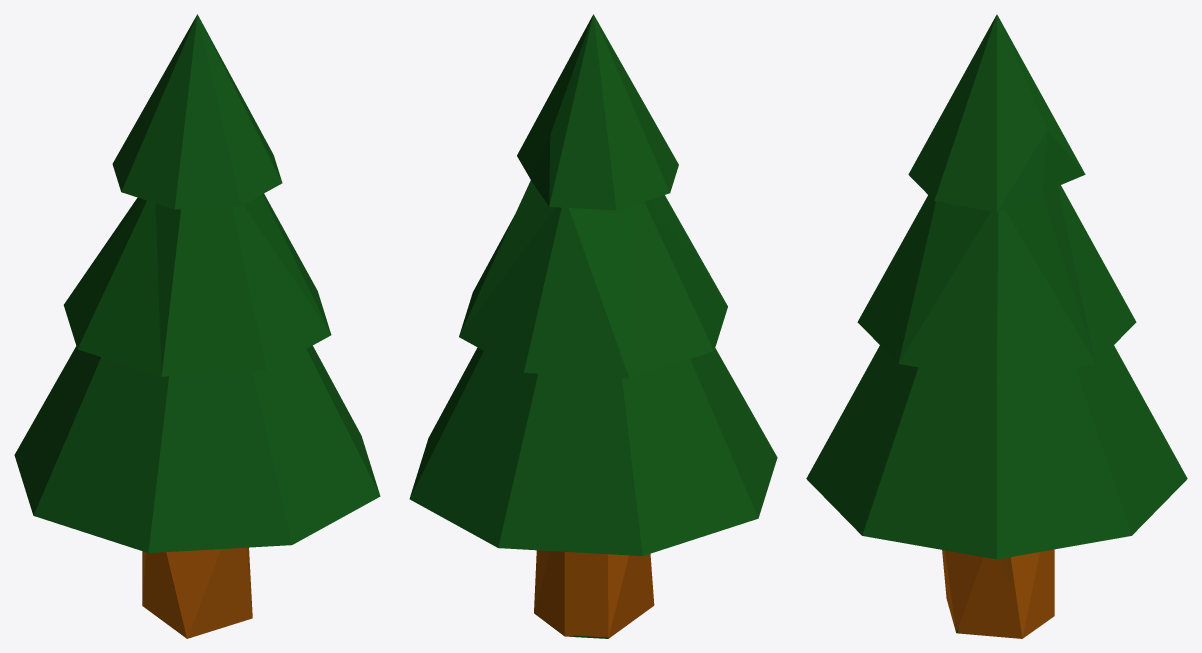
Rendered from lowpolytree_1.dae.
3 views of the same model, side by side, from view 1: azimuth 30°, elevation 25°; view 2: azimuth 150°, elevation 25°; view 3: azimuth 270°, elevation 25° (orthographic).
Parts seen in each view (by area): view 1: node; view 2: node; view 3: node.
Part boxes in pixels (x1,y1,x2,y2): node: [14, 14, 380, 638]; node: [409, 14, 777, 638]; node: [806, 14, 1187, 638].
Bounding box in the file's own units: 4.17 × 4.17 × 7.27.
1 material, 1 textured.
